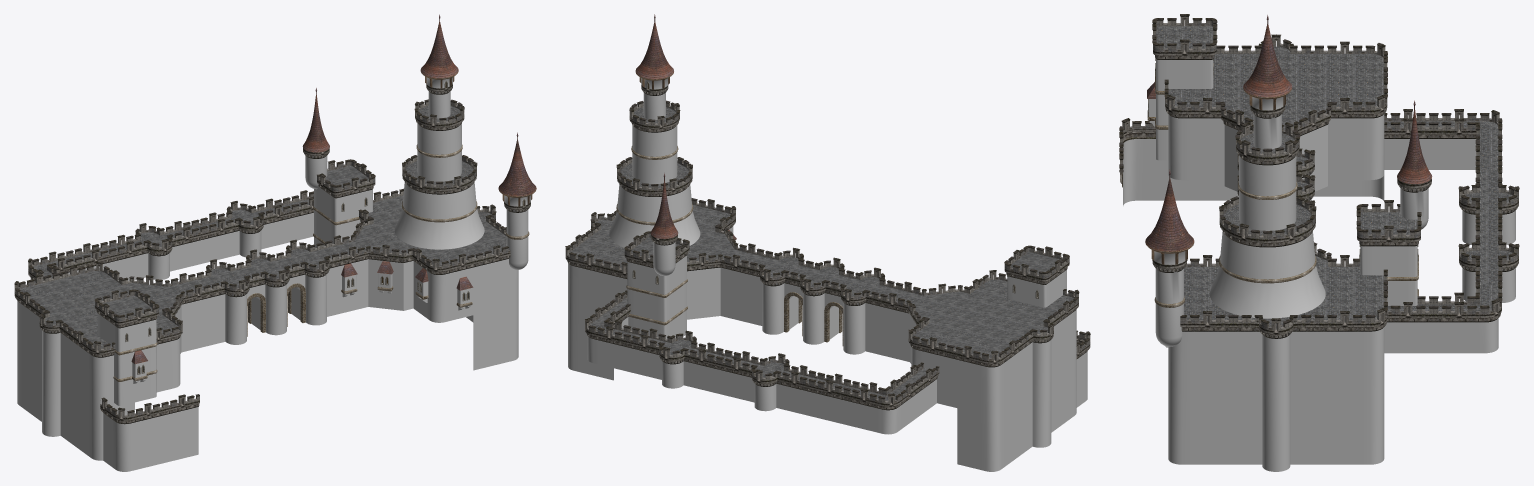
The model's file is SM_Castle_Back.FBX.
3 views of the same model, side by side, from view 1: azimuth 30°, elevation 25°; view 2: azimuth 150°, elevation 25°; view 3: azimuth 270°, elevation 25° (orthographic). The views are drawn at different scales.
Visible parts, largest first — view 1: SM_Castle_Back; view 2: SM_Castle_Back; view 3: SM_Castle_Back.
Part boxes in pixels (bbox=[...]): SM_Castle_Back: bbox=[14, 14, 536, 471]; SM_Castle_Back: bbox=[565, 14, 1090, 471]; SM_Castle_Back: bbox=[1119, 14, 1519, 471].
Size of what is drawn, in the model's own units: 10168 by 6020 by 7008.
